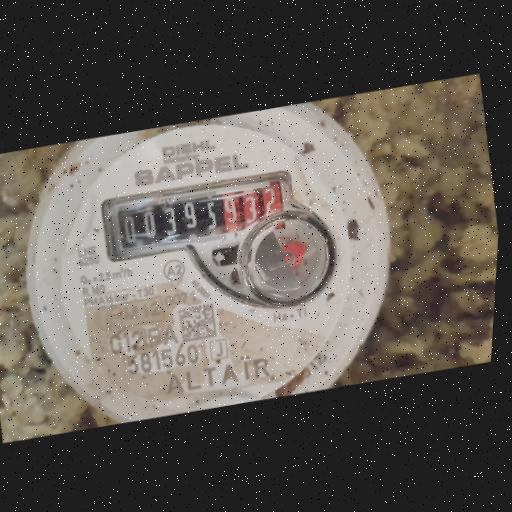0: (117, 209, 143, 249), (137, 206, 162, 244)
2: (256, 179, 284, 220)
3: (238, 187, 263, 229), (158, 203, 184, 242)
5: (197, 194, 226, 236)
9: (217, 190, 245, 233), (176, 197, 203, 239)
border_water_meter_number: (95, 166, 301, 265)
